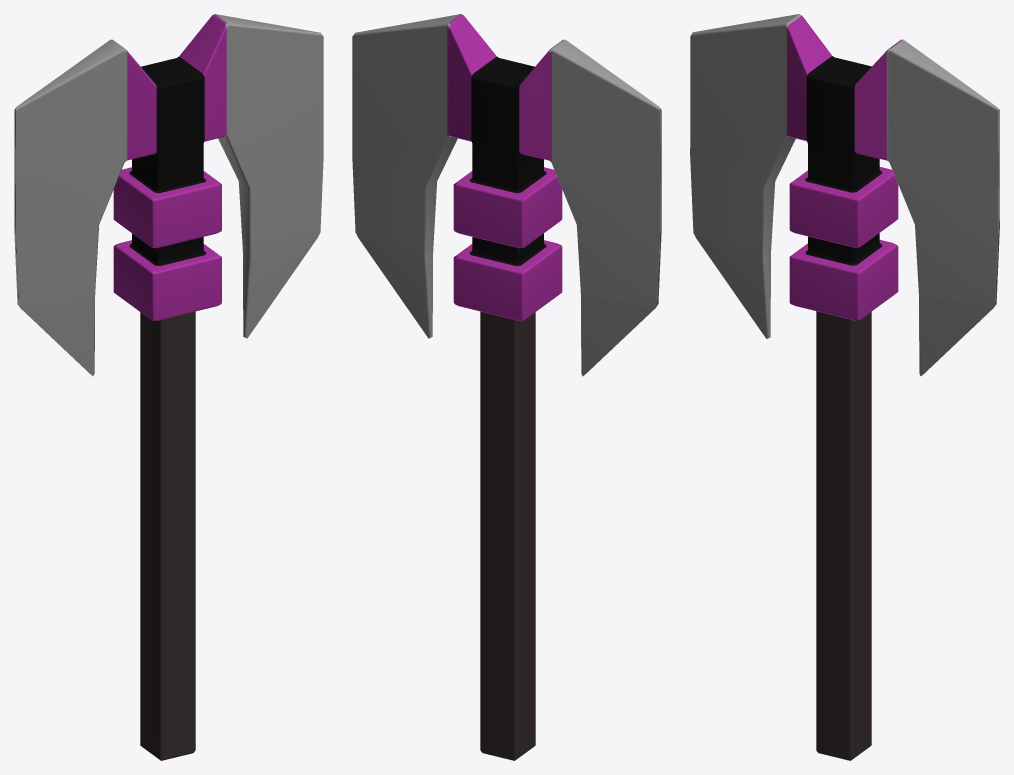
The model's file is axe_3.FBX.
The picture shows the model from 3 angles, left to right: view 1: azimuth 30°, elevation 25°; view 2: azimuth 150°, elevation 25°; view 3: azimuth 330°, elevation 25°; orthographic projection.
Parts seen in each view (by area): view 1: axe_3; view 2: axe_3; view 3: axe_3.
Boxes of the visible parts, bbox=[...] form: axe_3: bbox=[14, 14, 323, 760]; axe_3: bbox=[352, 14, 661, 760]; axe_3: bbox=[690, 14, 999, 760].
Size of the model in its own units: 1.38 by 3.1 by 0.3152.
